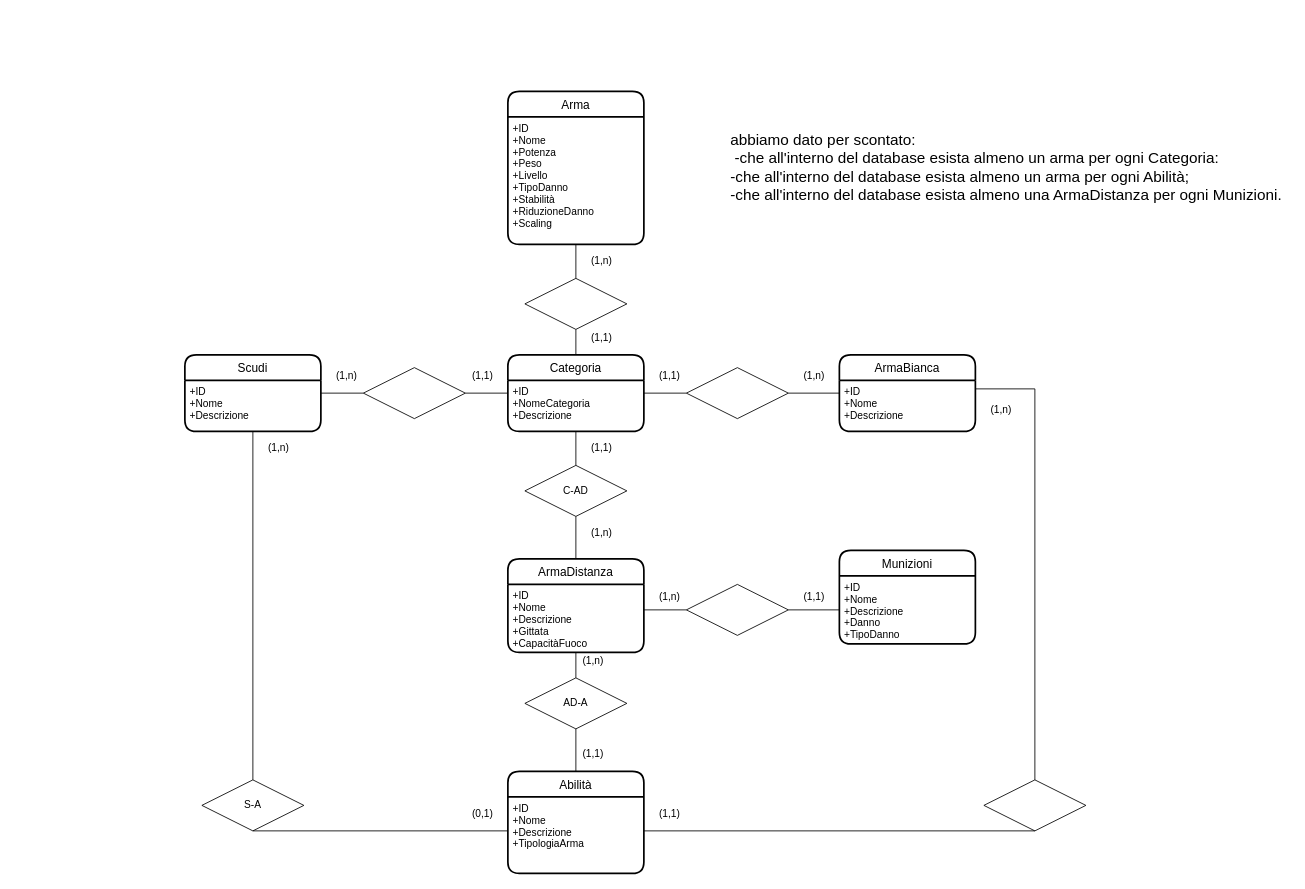
Image size: 1305x889. Some labels were removed from this diagram. The centre of each missing label's shape, as x and y in pixels:
A-C: pixel 575 303
AB-A: pixel 1034 805
AD-M: pixel 737 609
C-AB: pixel 737 393
C-S: pixel 414 393
